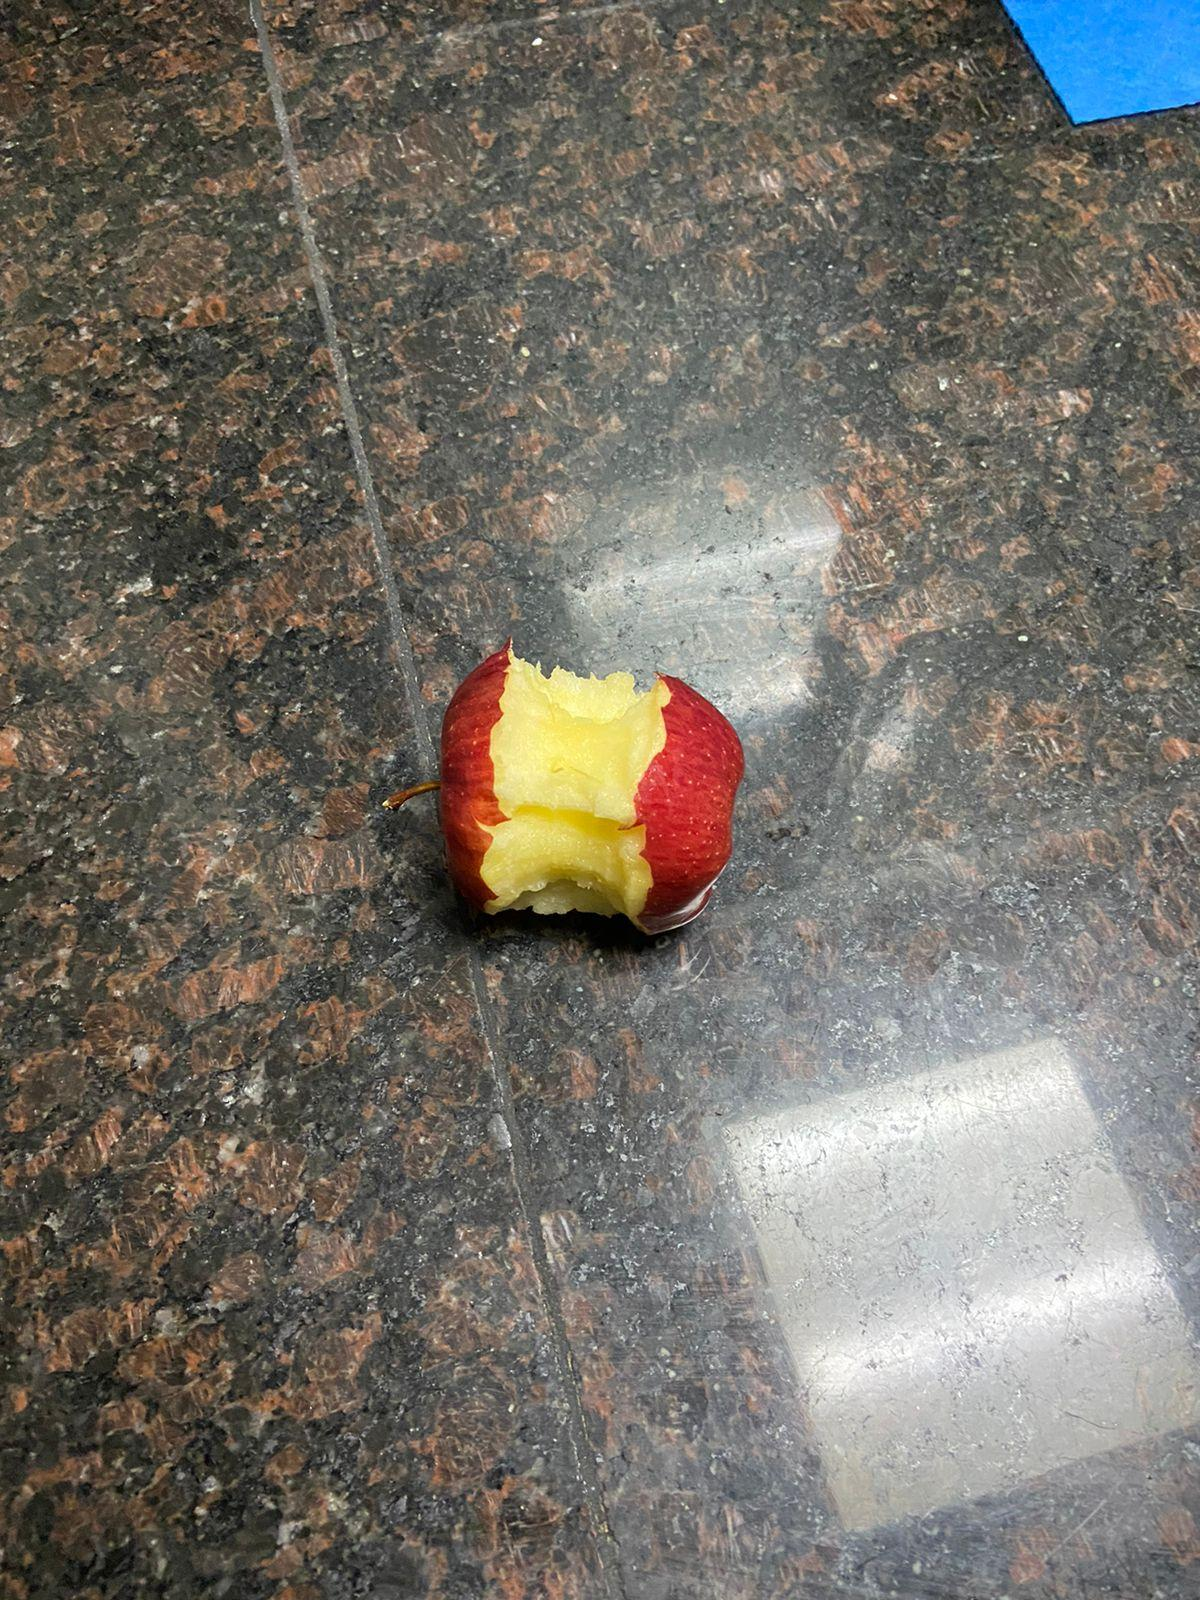Apple: (378, 640, 753, 952)
